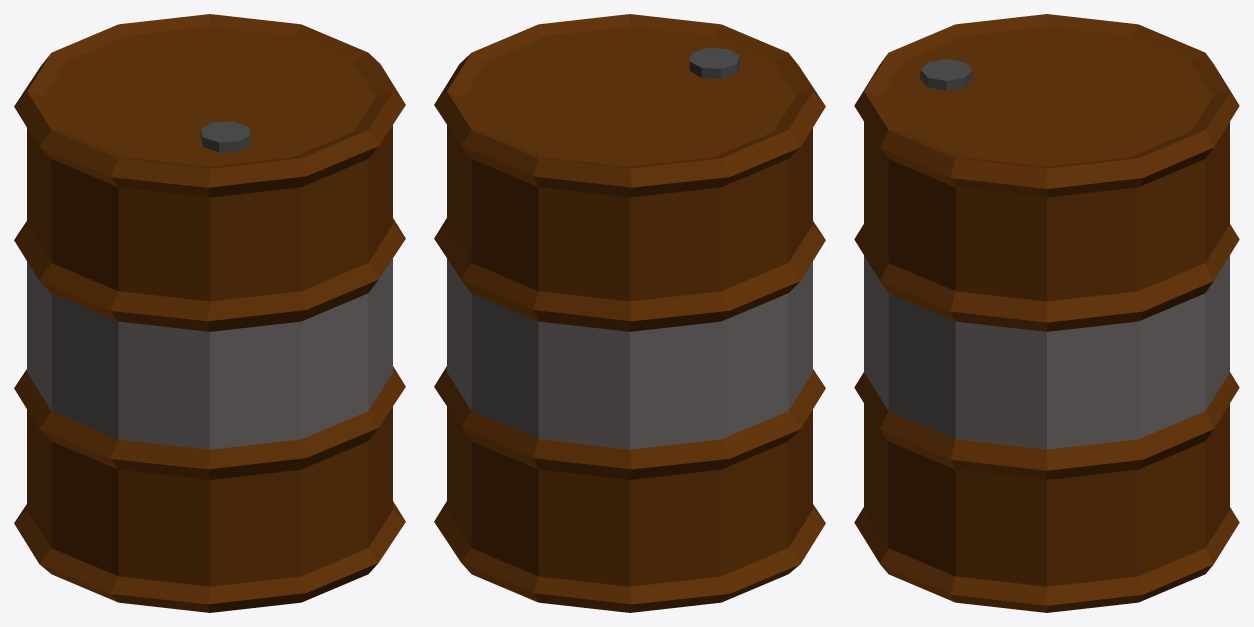
Rendered from Barrel.fbx.
The picture shows the model from 3 angles, left to right: view 1: azimuth 30°, elevation 25°; view 2: azimuth 150°, elevation 25°; view 3: azimuth 270°, elevation 25°; orthographic projection.
Visible parts, largest first — view 1: Barrel; view 2: Barrel; view 3: Barrel.
Part boxes in pixels (box(x1,y1,x2,y2)): Barrel: box(14, 14, 405, 612); Barrel: box(434, 14, 825, 612); Barrel: box(854, 14, 1239, 612).
Size of the model in its own units: 398 by 500 by 389.
